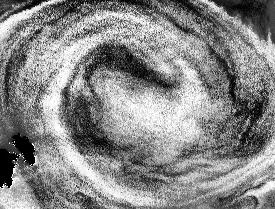AE: (47, 20, 237, 197)
